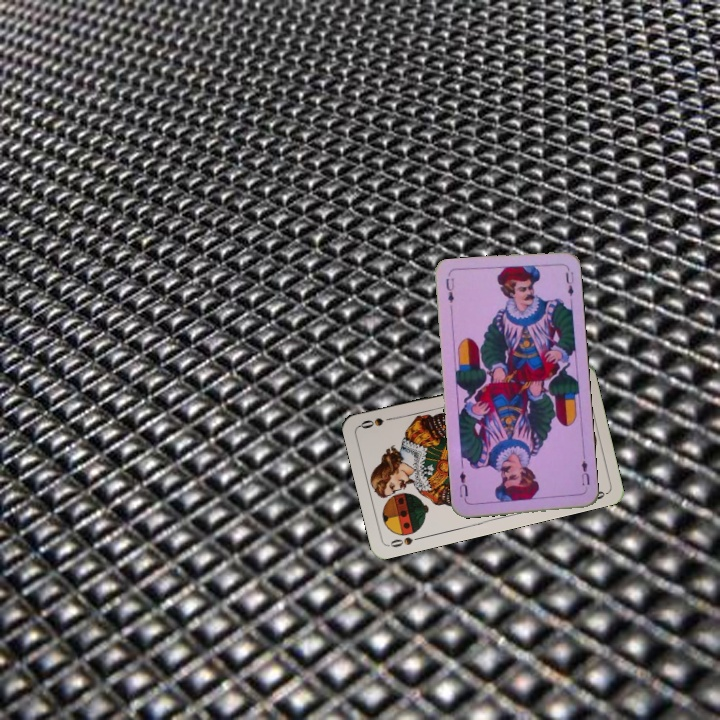EU: (577, 456, 592, 492), (442, 274, 457, 305)
SO: (385, 532, 425, 550)
